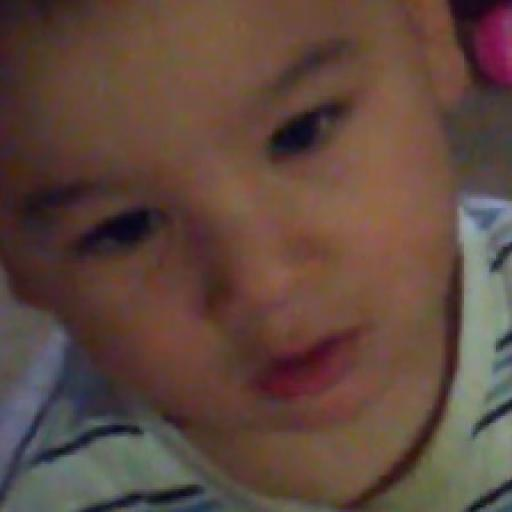Autism: (6, 11, 462, 483)
